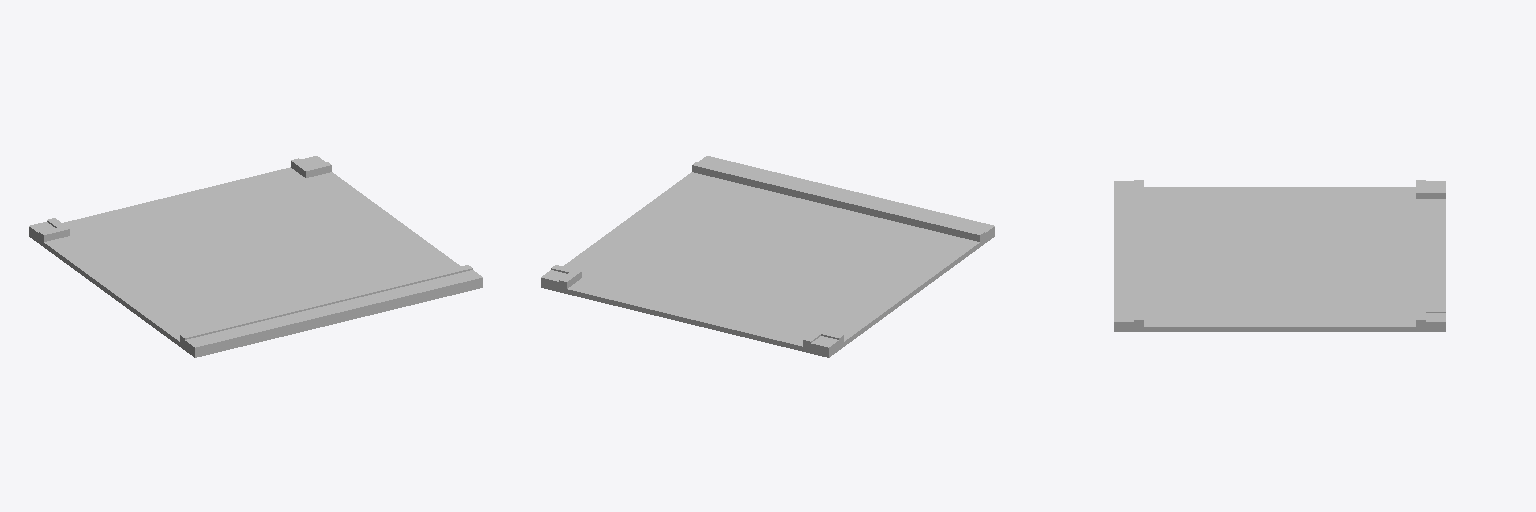
File: Road2_T.obj
3 renders of one model, left to right at view 1: azimuth 30°, elevation 25°; view 2: azimuth 150°, elevation 25°; view 3: azimuth 270°, elevation 25°, orthographic.
Visible parts, largest first — view 1: Road2_T_Road2Material; view 2: Road2_T_Road2Material; view 3: Road2_T_Road2Material.
Boxes of the visible parts, x1=… form: Road2_T_Road2Material: x1=29, y1=156, x2=482, y2=357; Road2_T_Road2Material: x1=541, y1=156, x2=994, y2=357; Road2_T_Road2Material: x1=1114, y1=180, x2=1445, y2=331.
Size of the model in its own units: 12 by 0.4754 by 12.